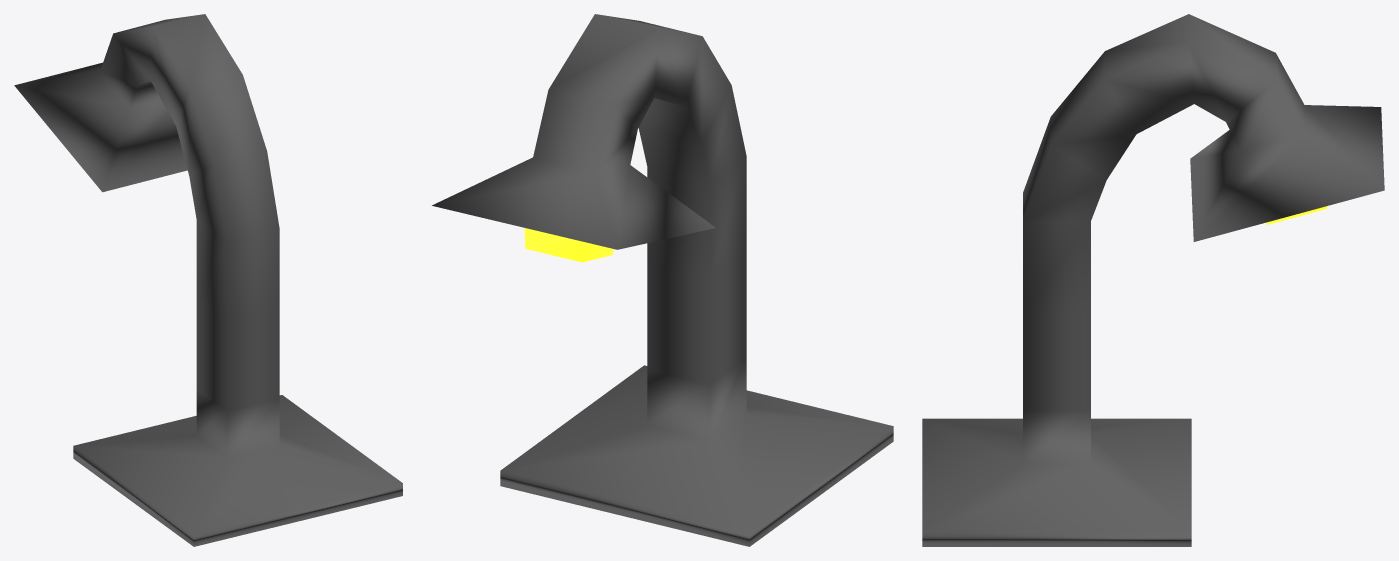
The model's file is LAMP.gltf.
The picture shows the model from 3 angles, left to right: view 1: azimuth 30°, elevation 25°; view 2: azimuth 150°, elevation 25°; view 3: azimuth 270°, elevation 25°; orthographic projection. The views are drawn at different scales.
Parts seen in each view (by area): view 1: Cube; view 2: Cube; view 3: Cube.
Part boxes in pixels (left/top/right/bottom): Cube: left=14, top=14, right=402, bottom=546; Cube: left=432, top=14, right=893, bottom=546; Cube: left=922, top=14, right=1384, bottom=546.
Bounding box in the file's own units: 2.79 × 5.28 × 4.79.
